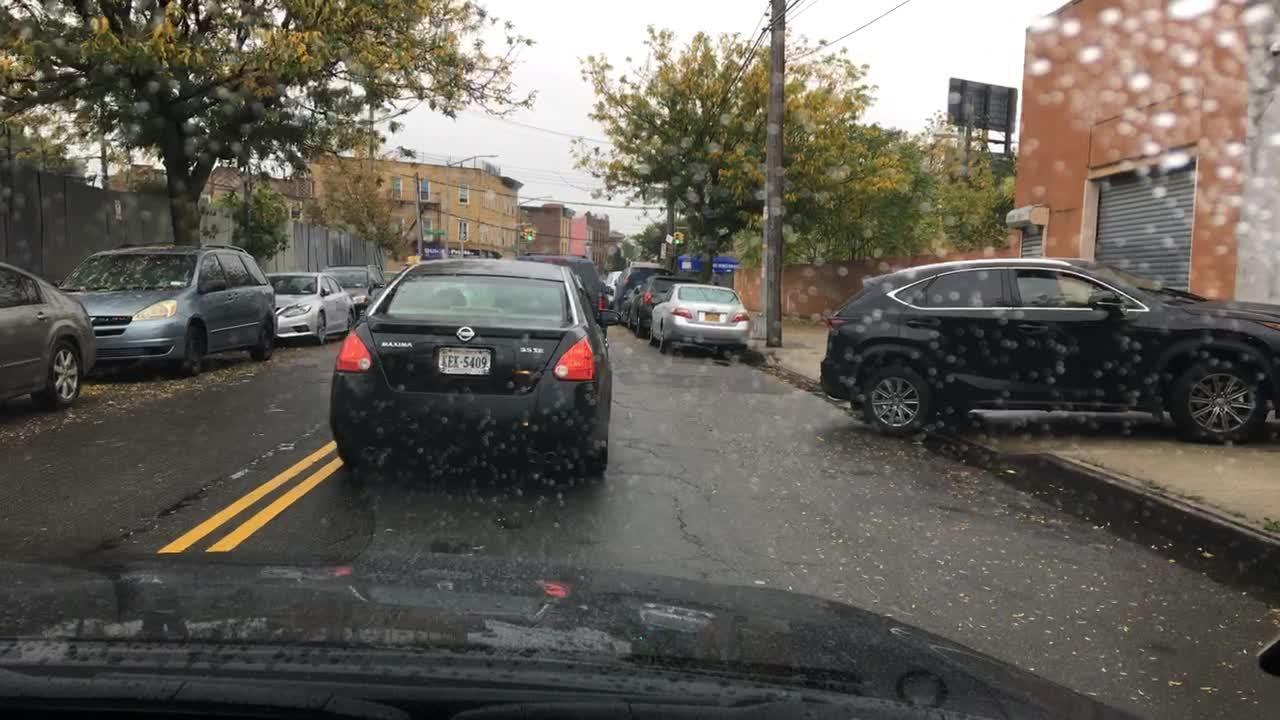Nissan: (451, 320, 487, 346)
